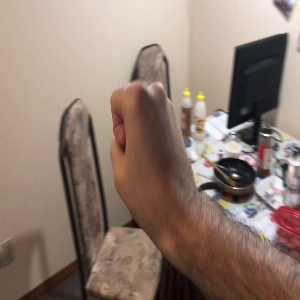hand: (110, 81, 196, 219)
